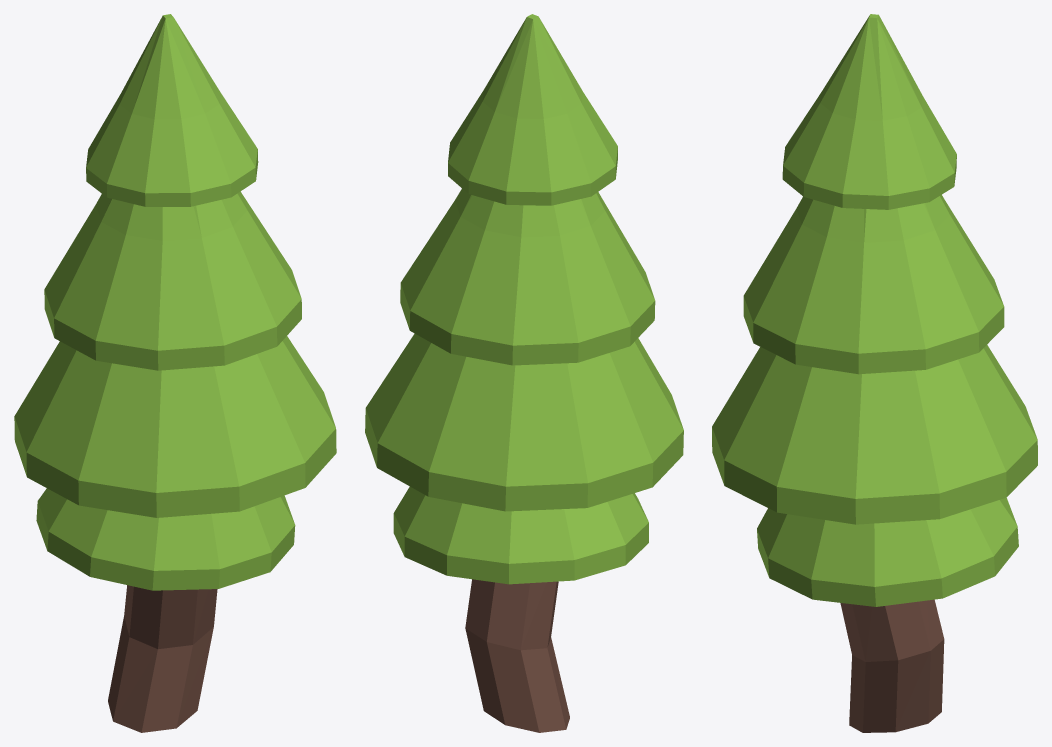
3 renders of one model, left to right at view 1: azimuth 30°, elevation 25°; view 2: azimuth 150°, elevation 25°; view 3: azimuth 270°, elevation 25°, orthographic. The views are drawn at different scales.
Visible parts, largest first — view 1: default; view 2: default; view 3: default.
Part boxes in pixels (left/top/right/bottom): default: left=14, top=14, right=336, bottom=732; default: left=365, top=14, right=683, bottom=732; default: left=712, top=14, right=1037, bottom=732.
Size of the model in its own units: 0.3482 by 0.8403 by 0.3478.
